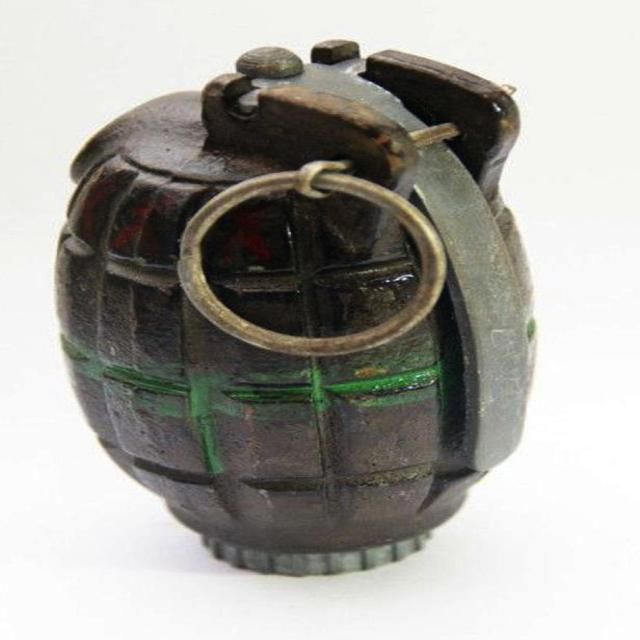grenade: (58, 40, 540, 577)
